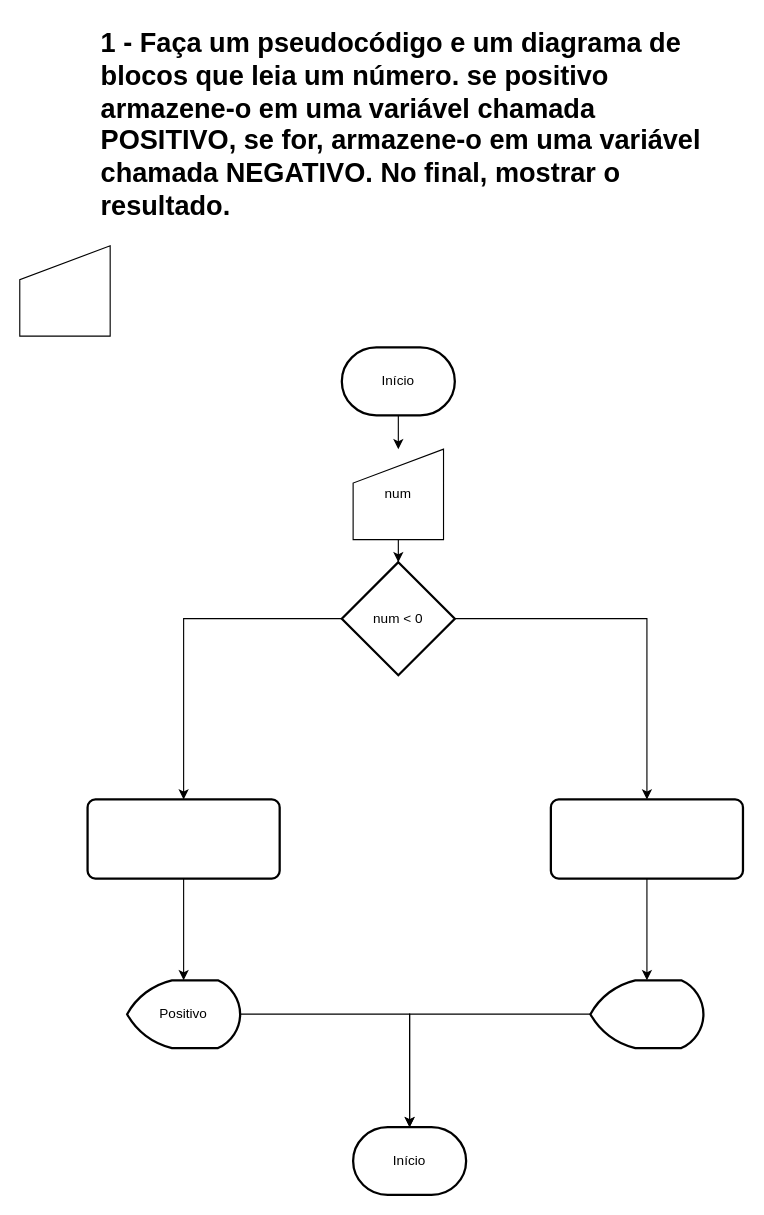
Image size: 764x1215. Some labels were removed from this diagram. The shapes that lost their labels are listed below. From the top down, each one's centre as x and y in pixels, then its label:
the point at 183,838: positivo <- num
the point at 646,838: negativo <- num
the point at 646,1014: negativo
